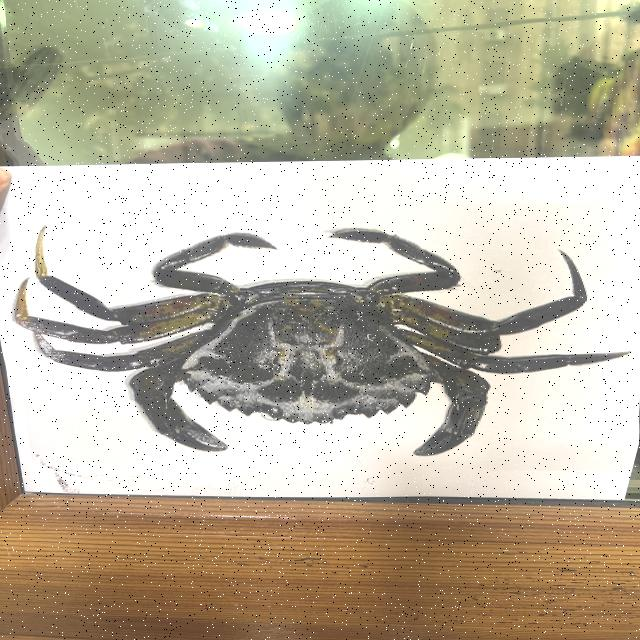European_Green_Crab: (10, 225, 634, 458)
